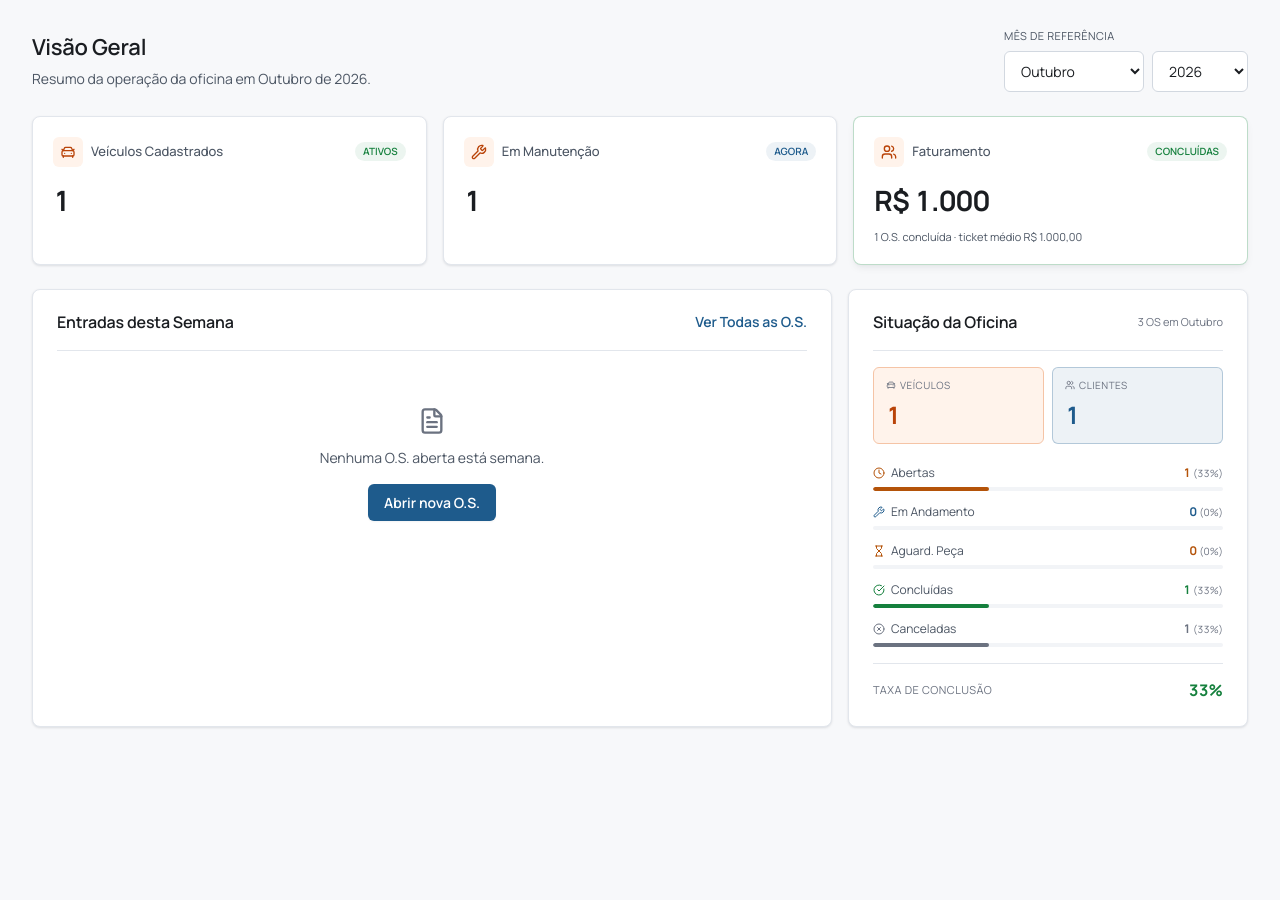
Scenario: Dashboard › troca o periodo e recalcula o faturamento pelo mes escolhido
This screenshot has width=1280, height=900.
Select "2026" in the dropdown named "Ano de referência" at (1200, 71), box [1152,50,1248,92]
Select "Setembro" in the dropdown labelled "Mês de referência" at (1074, 71), box [1004,50,1144,92]
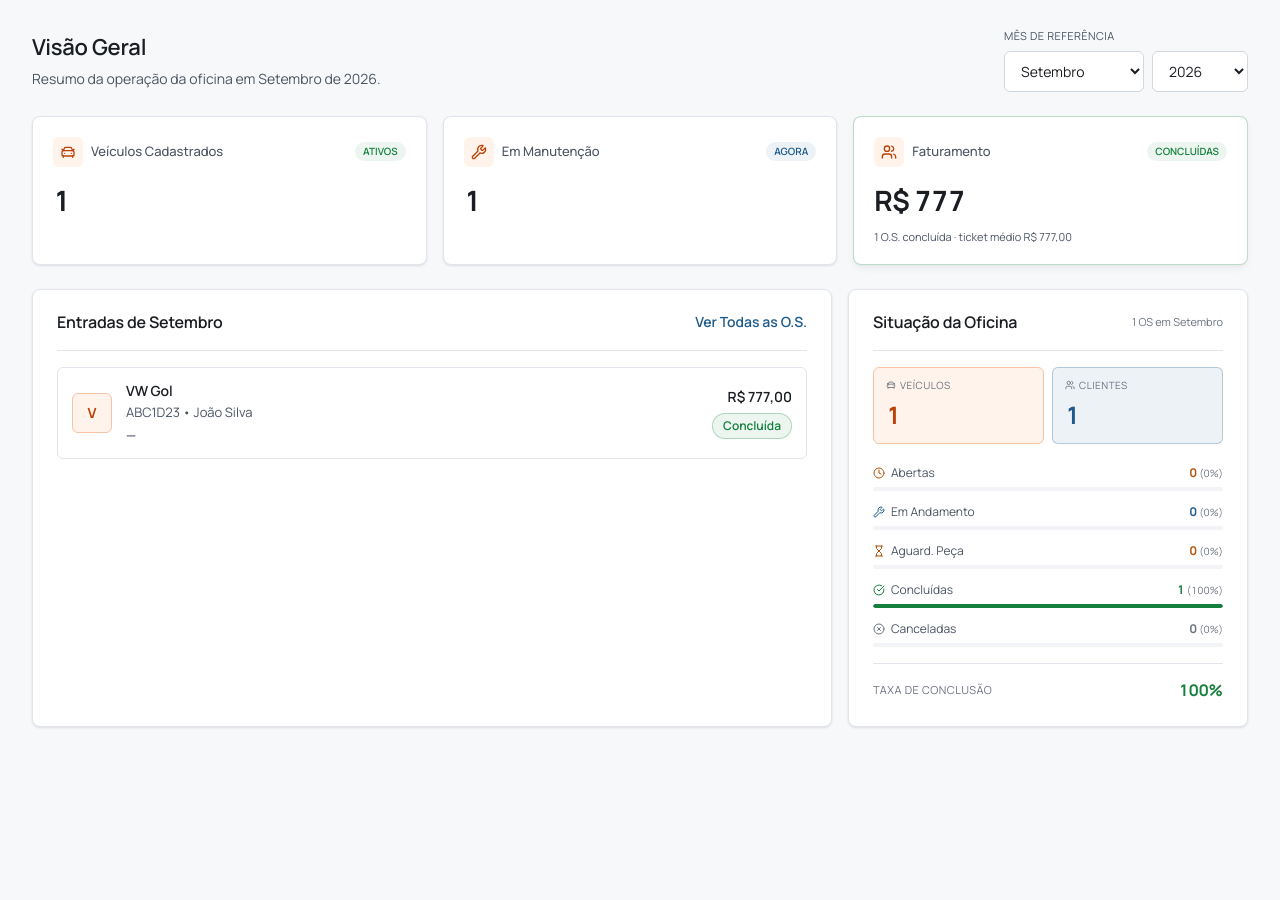
Now the text "R$ 777" is shown, box [874,180,965,218]
Now the text "R$ 1.000" is gone
Now the text "1 OS em Setembro" is shown, box [1132,314,1223,330]
